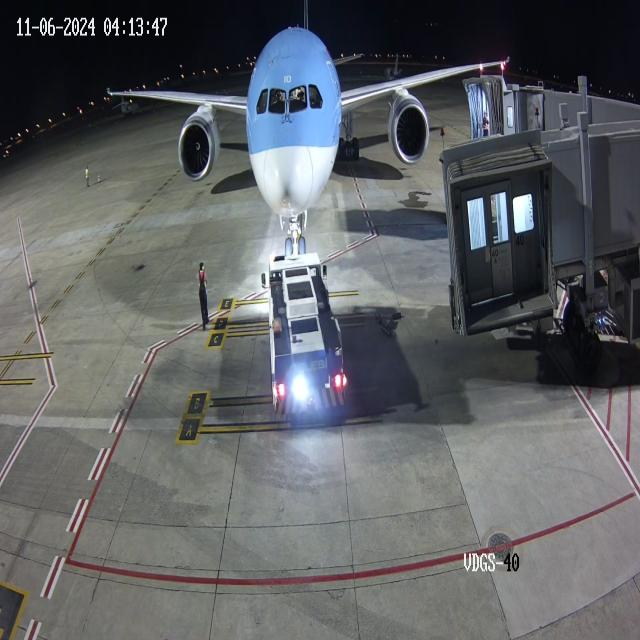bridge: (488, 74, 544, 150)
plane: (88, 11, 436, 252)
window: (252, 76, 328, 127)
